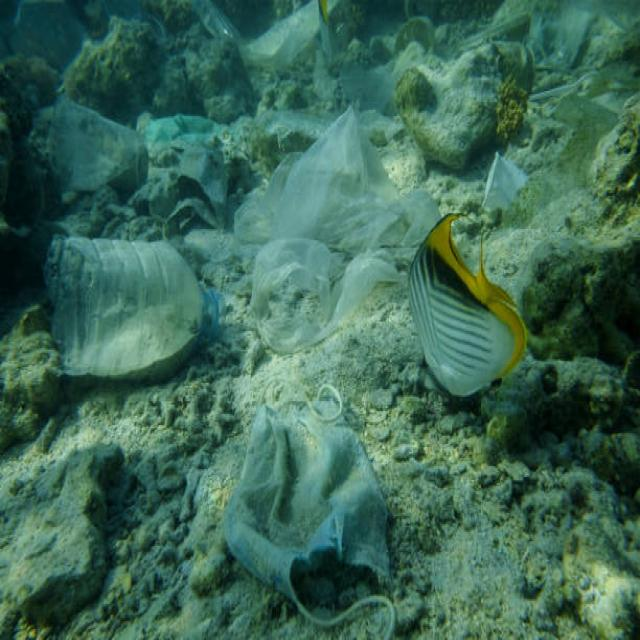garbage: (217, 386, 408, 620), (219, 128, 418, 344), (40, 219, 233, 392)
